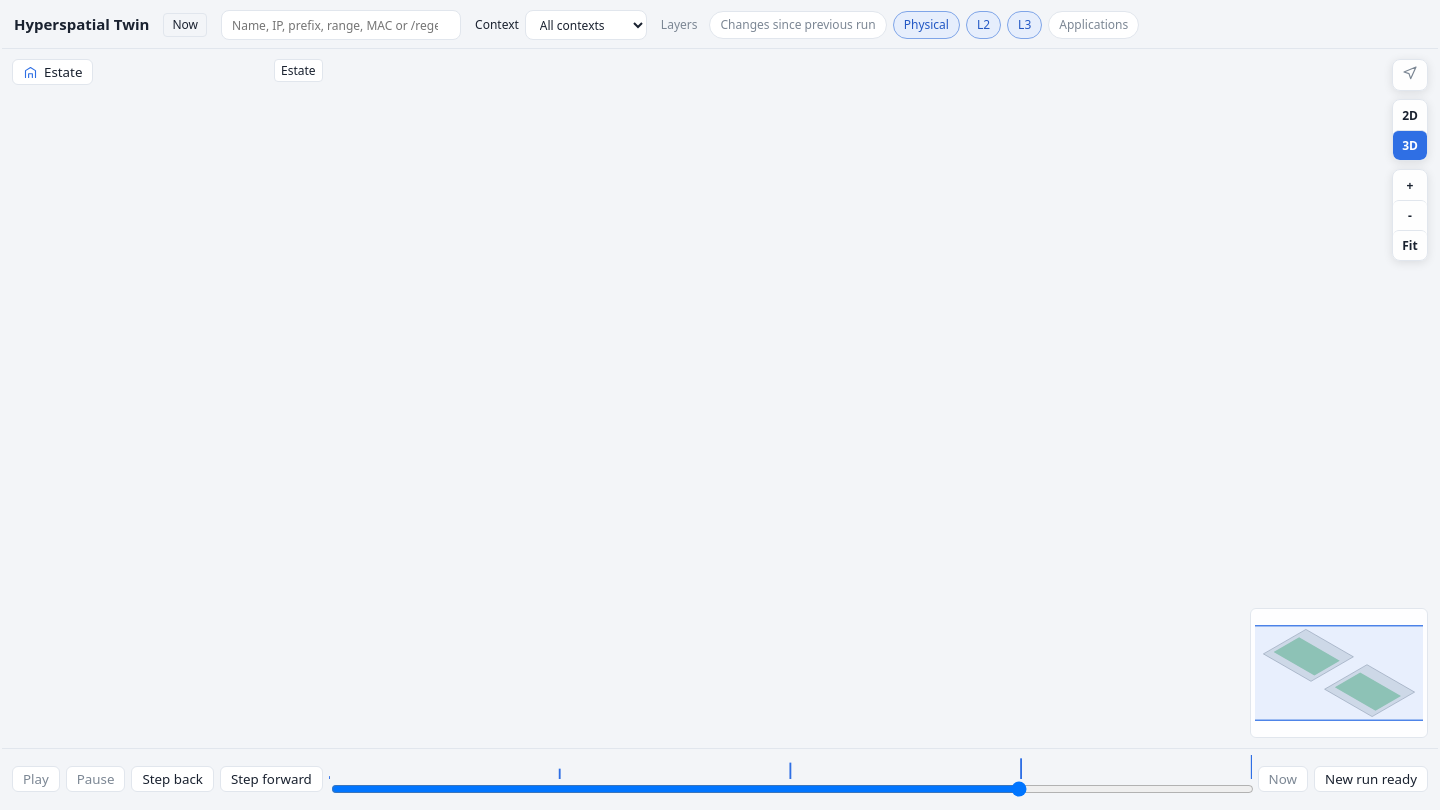
Test: HstMapPage › shows the new-run pill when the event stream reports a run
Check: the message "Now" is shown, box [164, 13, 207, 37]
Click the button "New run ready" at (1371, 779), box [1314, 766, 1428, 792]
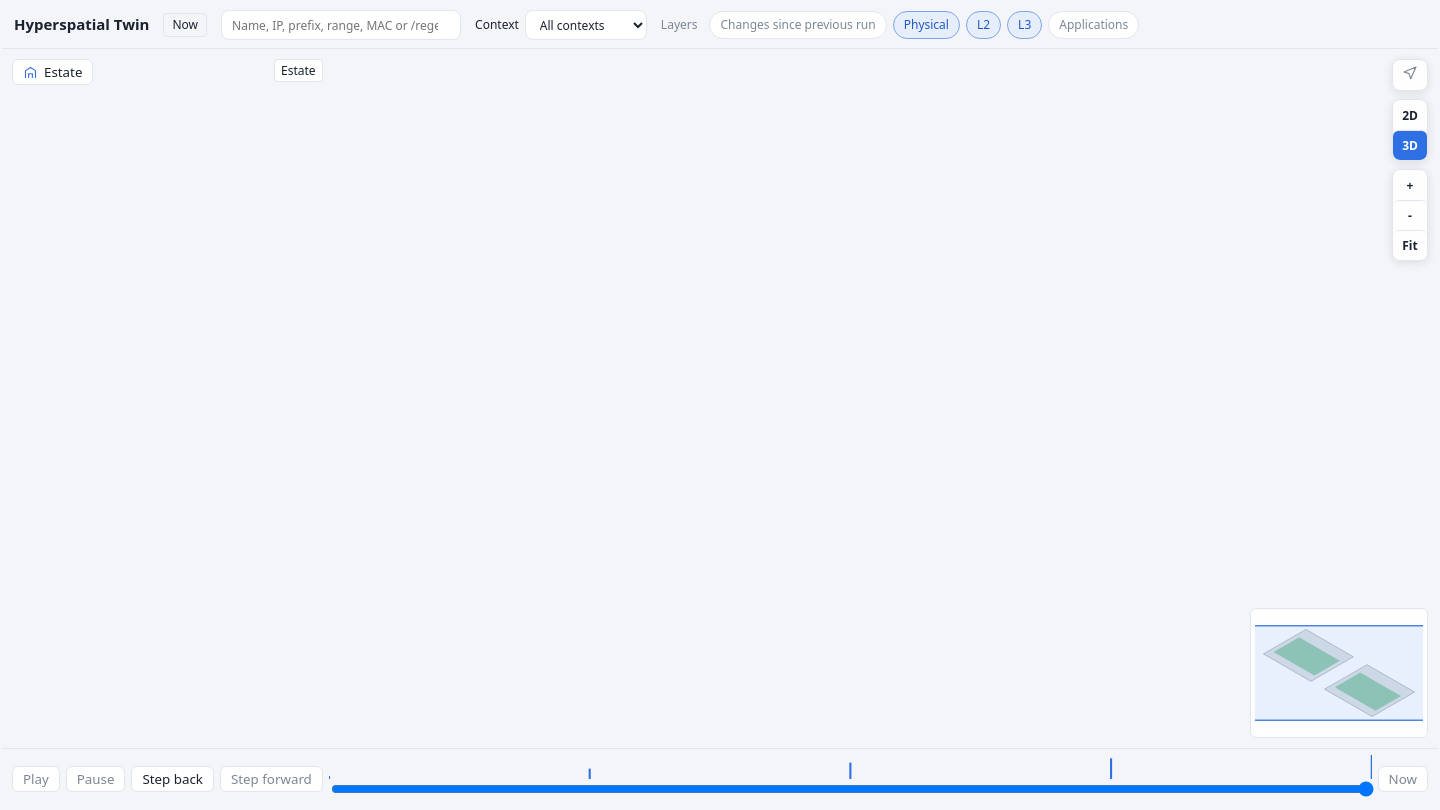
Check: the message reads "Now", box [172, 16, 198, 33]
Check: the button "New run ready" is gone
